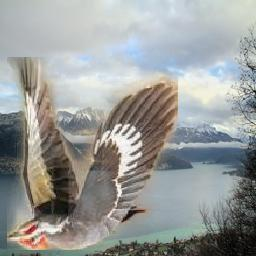Woodpecker: (8, 58, 179, 251)
